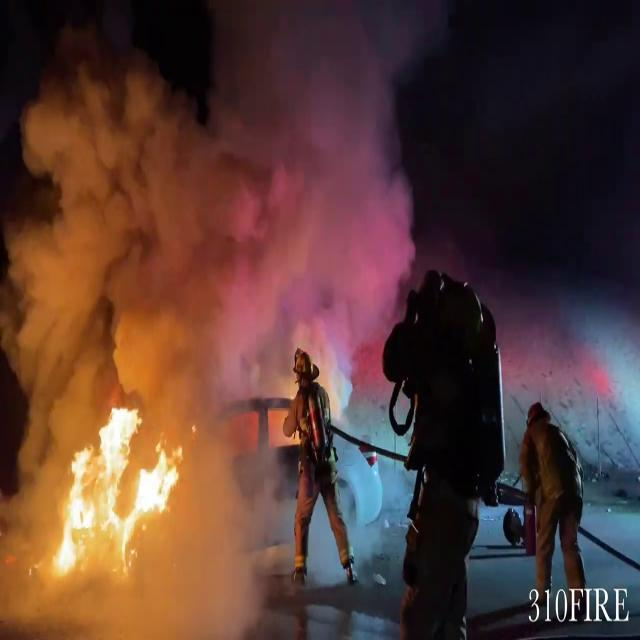Fire: (29, 398, 186, 598)
Smoke: (8, 4, 434, 411)
